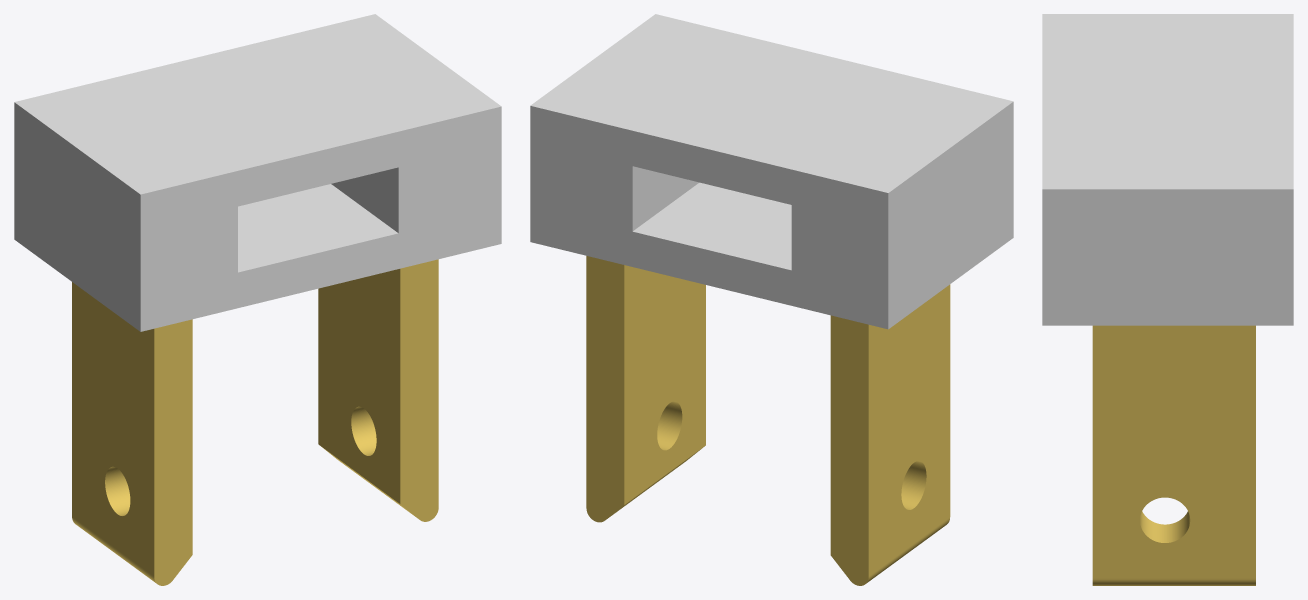
Rendered from caster_holder.dae.
3 views of the same model, side by side, from view 1: azimuth 30°, elevation 25°; view 2: azimuth 150°, elevation 25°; view 3: azimuth 270°, elevation 25° (orthographic).
Visible parts, largest first — view 1: caster_holder; view 2: caster_holder; view 3: caster_holder.
Part boxes in pixels (x1,y1,x2,y2): caster_holder: (14, 14, 501, 585); caster_holder: (530, 14, 1013, 585); caster_holder: (1042, 14, 1293, 585).
Size of the model in its own units: 0.0924 by 0.056 by 0.1031.
